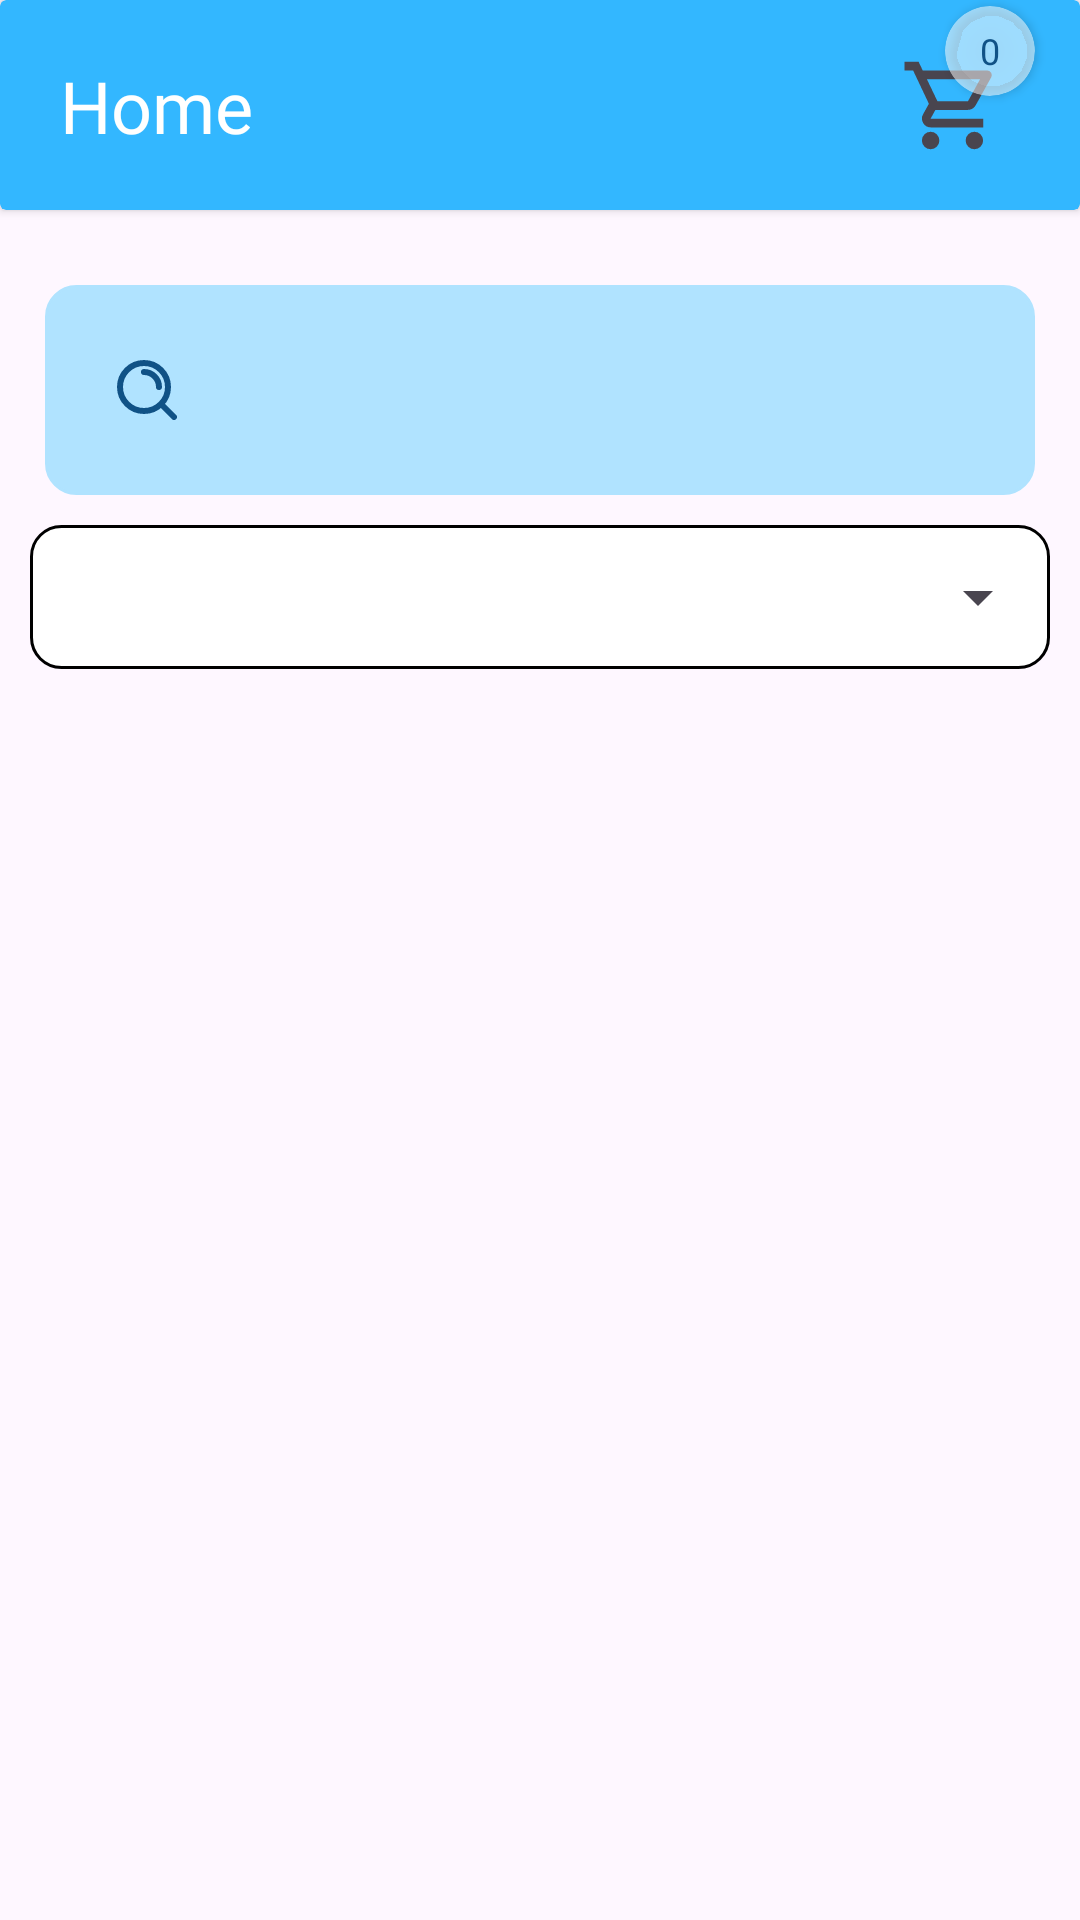

Point at icon controls on the screen. Image size 1080px×1920px, points as point (x, y).
cart: point (954, 101)
